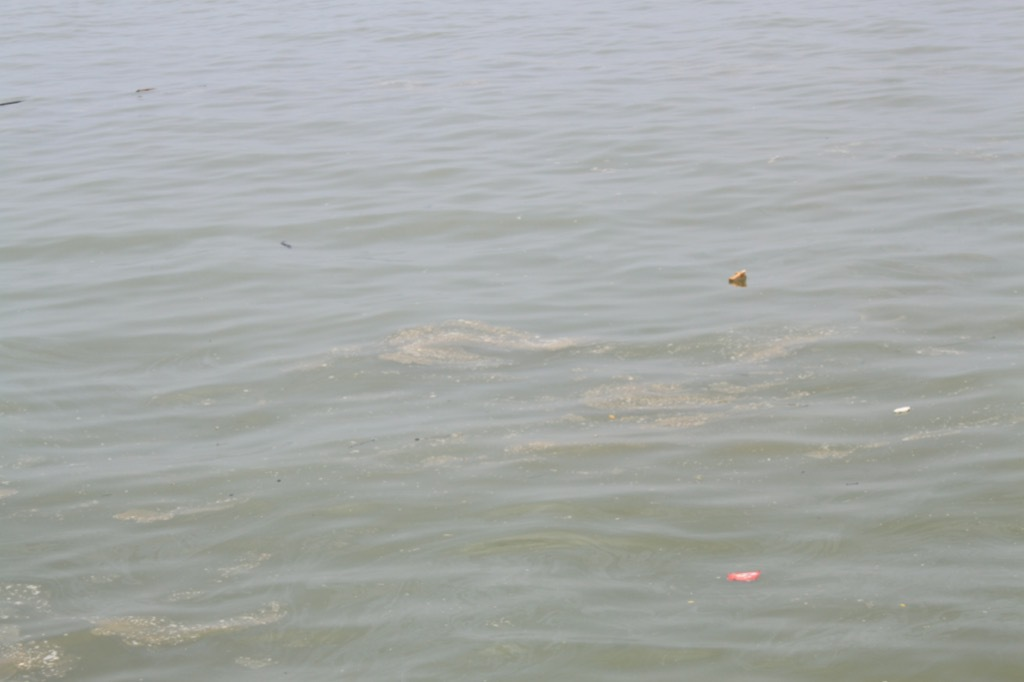organic: (122, 79, 163, 103), (216, 485, 248, 508), (274, 233, 300, 259), (1, 95, 32, 115), (407, 431, 429, 452), (271, 468, 289, 489), (359, 431, 381, 448), (209, 434, 224, 457)
plastic: (708, 548, 774, 599), (721, 262, 754, 297), (884, 395, 922, 425)
